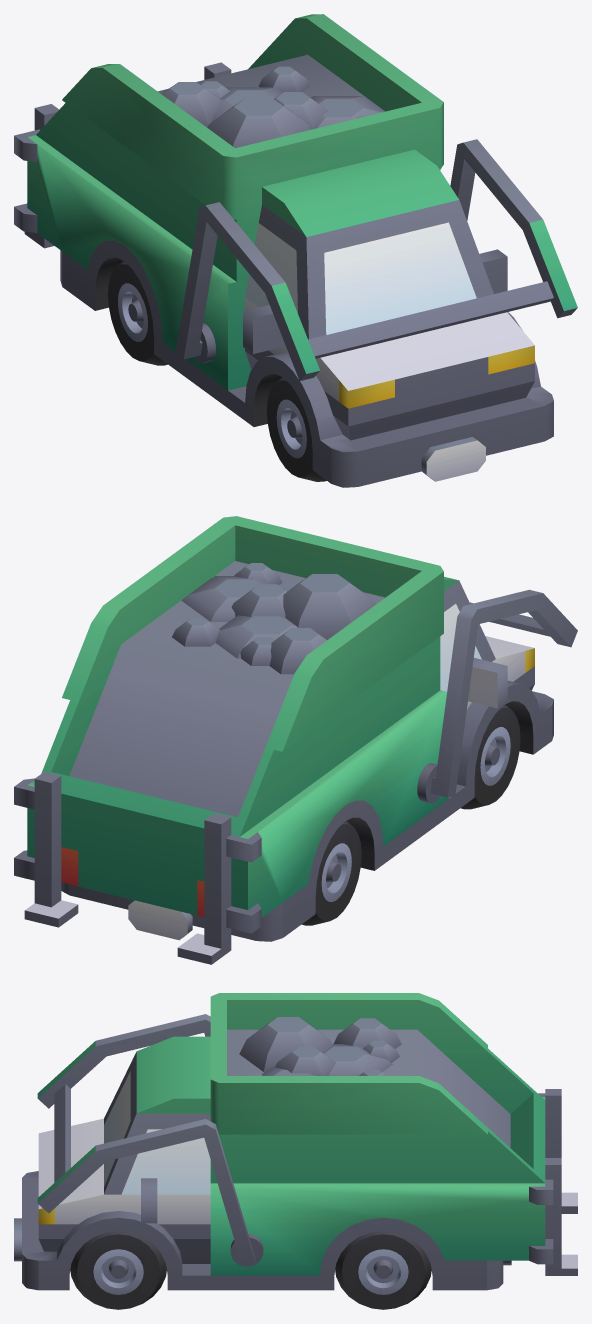
File: k-car-garbage-truck.glb
The picture shows the model from 3 angles, top to bottom: view 1: azimuth 30°, elevation 25°; view 2: azimuth 150°, elevation 25°; view 3: azimuth 270°, elevation 25°; orthographic projection. The views are drawn at different scales.
Parts seen in each view (by area): view 1: body, arm, trash, wheel-front-right, wheel-back-right; view 2: body, trash, arm, wheel-front-right, wheel-back-right; view 3: body, arm, trash, wheel-front-left, wheel-back-left.
Part boxes in pixels (box(x1,y1,x2,y2)): body: box(14, 14, 553, 487); arm: box(176, 139, 577, 380); trash: box(161, 66, 385, 148); wheel-front-right: box(266, 377, 326, 481); wheel-back-right: box(108, 261, 167, 365); body: box(14, 516, 553, 964); trash: box(172, 563, 376, 674); arm: box(417, 589, 577, 803); wheel-front-right: box(460, 704, 520, 809); wheel-back-right: box(302, 821, 361, 925); body: box(14, 993, 577, 1290); arm: box(37, 1014, 263, 1266); trash: box(239, 1017, 401, 1075); wheel-front-left: box(70, 1231, 166, 1309); wheel-back-left: box(335, 1231, 431, 1309).
Bounding box in the file's own units: 1.6 × 1.6 × 3.45.
Materials: 1 (1 with a texture image).
